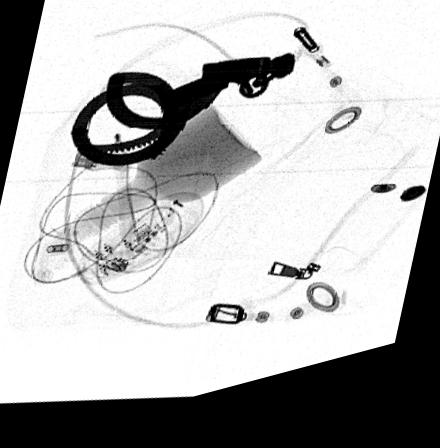HandCuffs: (66, 63, 298, 174)
